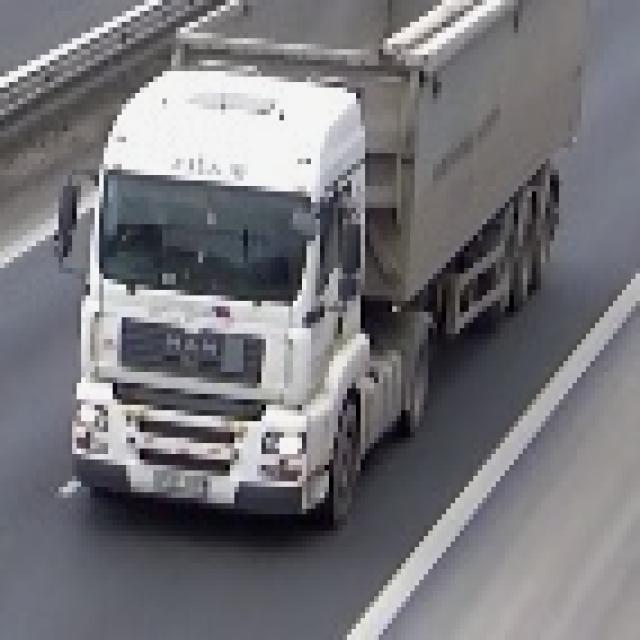TRUCK: (71, 0, 584, 531)
